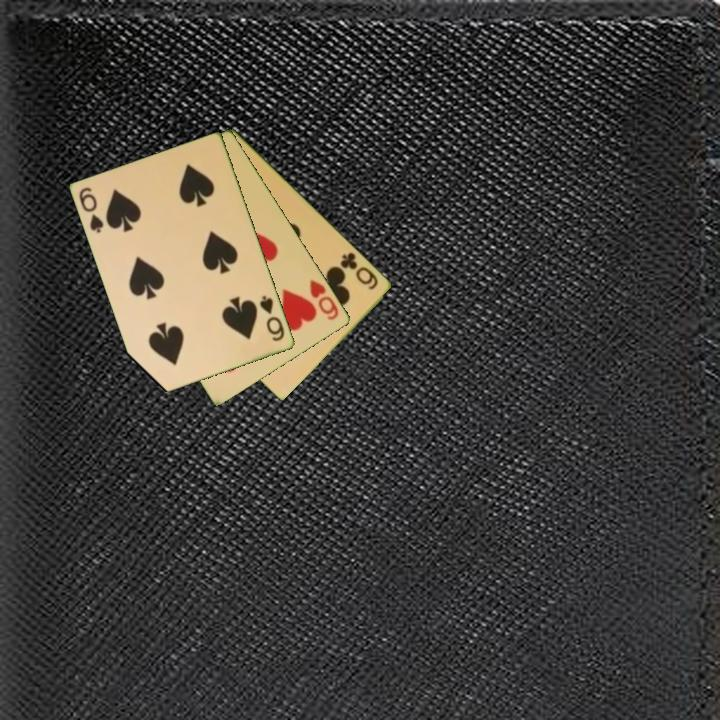6c: (337, 248, 382, 293)
6h: (306, 276, 342, 323)
6s: (256, 292, 288, 344), (76, 184, 107, 236)
